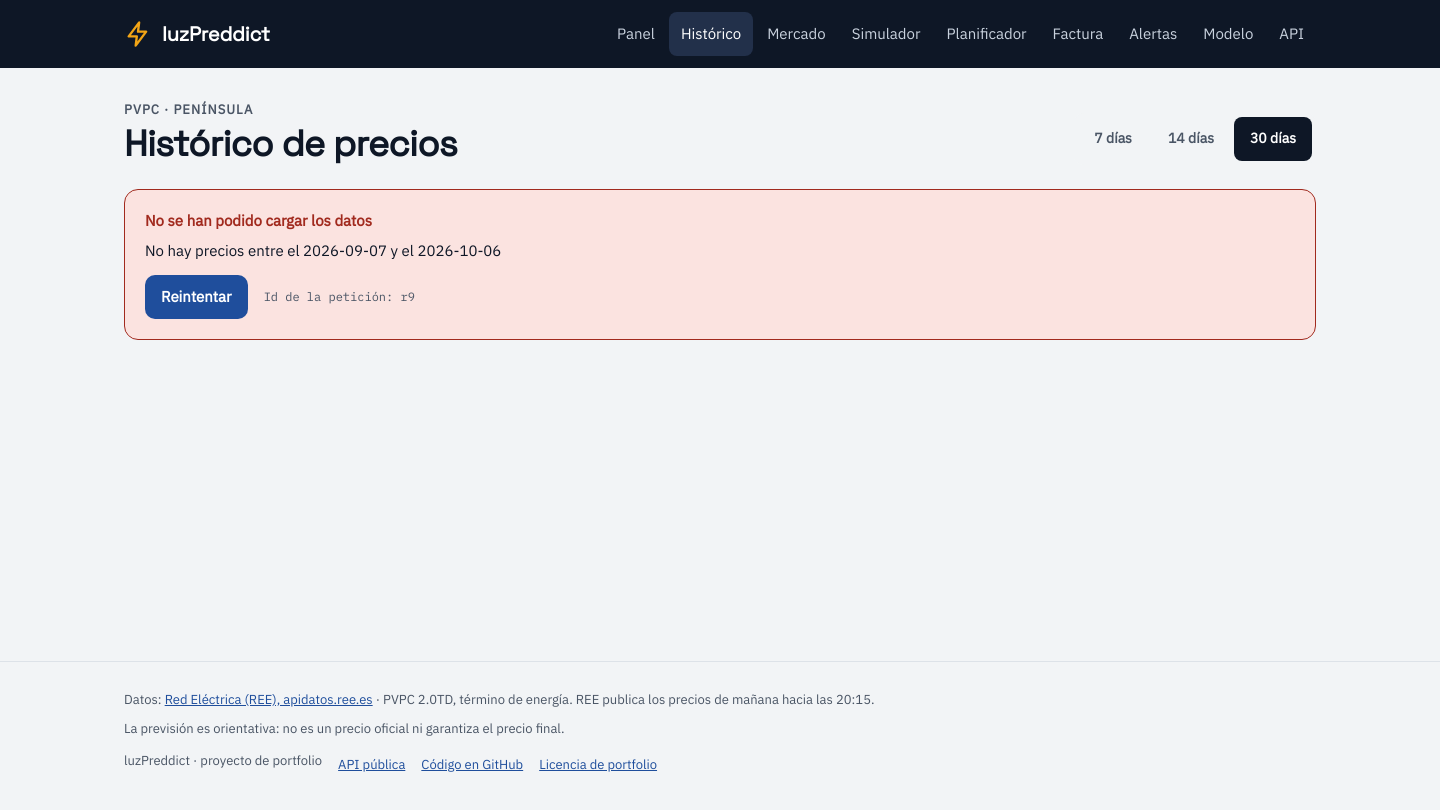
Test: Histórico con errores › si fallan los precios, explica el motivo y deja reintentar
Expected: the message shows "No hay precios entre el 2026-09-07 y el 2026-10-06", x1=145 y1=241 x2=501 y2=260
Click the button "Reintentar" at x=196, y=297, box x1=145 y1=275 x2=248 y2=319
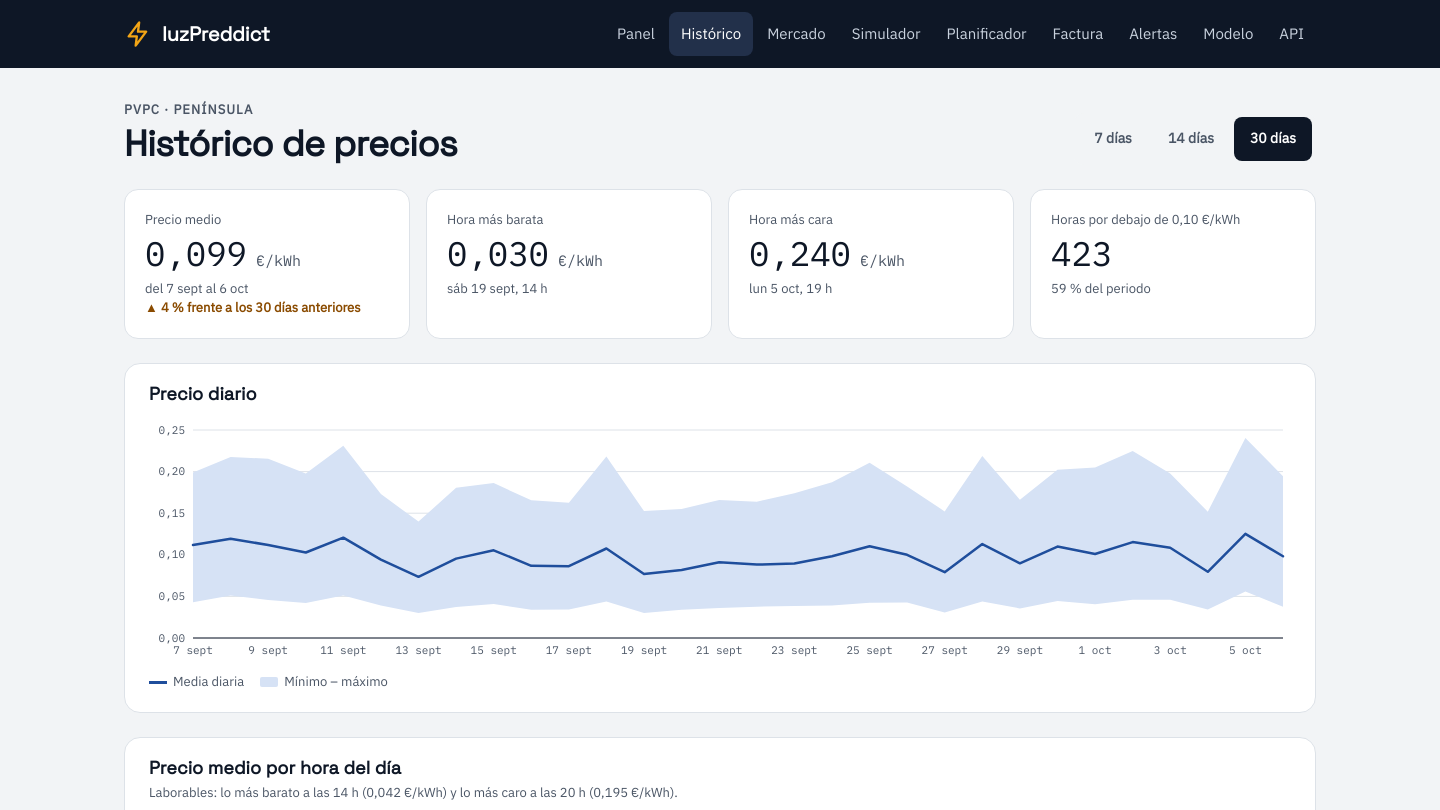
Now the element named "Resumen del periodo" is shown, box x1=124 y1=189 x2=1316 y2=339
